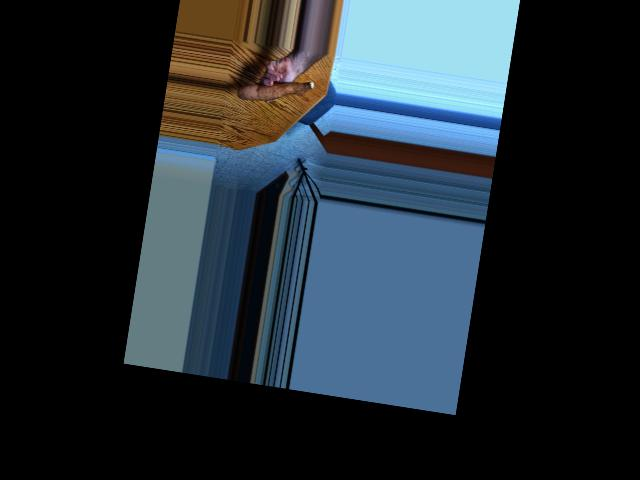sweet_potato: (239, 70, 313, 114)
